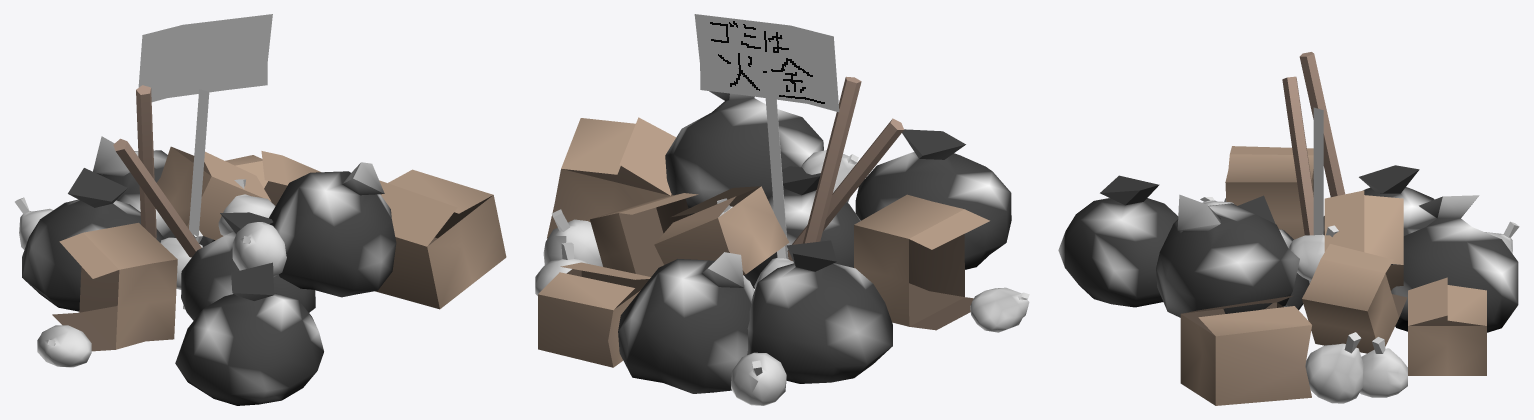
Rendered from K_GOMI.glb.
The picture shows the model from 3 angles, left to right: view 1: azimuth 30°, elevation 25°; view 2: azimuth 150°, elevation 25°; view 3: azimuth 270°, elevation 25°; orthographic projection. The views are drawn at different scales.
Visible parts, largest first — view 1: FRAME_ROOT; view 2: FRAME_ROOT; view 3: FRAME_ROOT.
Boxes of the visible parts, <box> form: FRAME_ROOT: <box>15,14,506,405</box>; FRAME_ROOT: <box>535,14,1029,405</box>; FRAME_ROOT: <box>1058,52,1519,405</box>.
Size of the model in its own units: 9.07 by 5.65 by 8.41.
2 materials, 2 textured.
